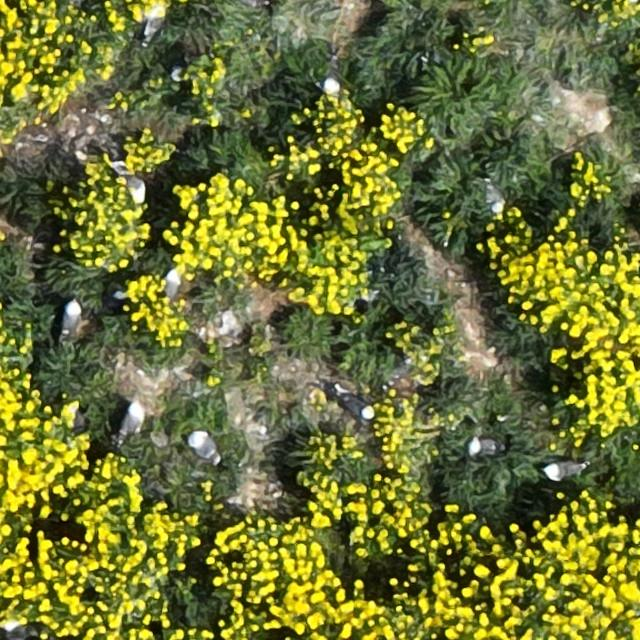umineko: (187, 431, 217, 462), (337, 394, 370, 420), (119, 172, 145, 203), (120, 402, 142, 437), (543, 462, 579, 480), (60, 300, 79, 333), (486, 183, 505, 213), (468, 438, 498, 456), (164, 268, 180, 298), (320, 68, 337, 92)
